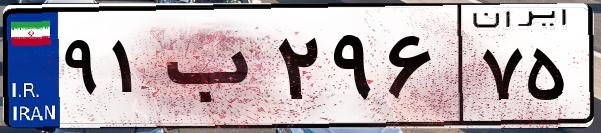1: (110, 28, 158, 98)
2: (270, 28, 330, 110)
5: (525, 38, 570, 115)
6: (385, 28, 445, 110)
7: (475, 38, 525, 113)
9: (330, 28, 385, 110), (57, 26, 110, 100)
ب: (158, 20, 270, 120)
